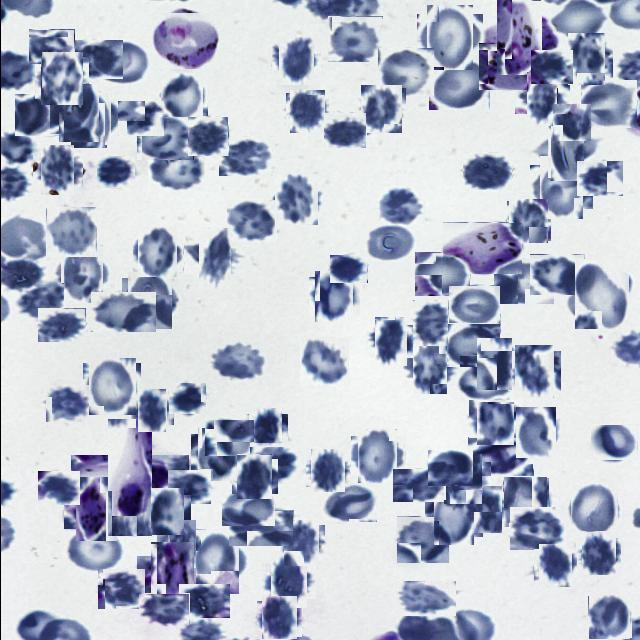difficult: (442, 222, 522, 274), (486, 4, 550, 67), (154, 10, 216, 72), (142, 549, 200, 606), (69, 482, 122, 535)
red blood cell: (570, 264, 632, 326), (421, 9, 477, 65), (428, 61, 489, 110), (190, 535, 244, 589), (534, 160, 587, 214), (493, 258, 554, 304), (568, 484, 620, 536), (85, 360, 137, 412), (377, 48, 433, 96), (580, 80, 636, 128), (65, 528, 125, 572), (147, 146, 204, 192), (124, 275, 175, 326), (46, 206, 96, 258), (90, 292, 155, 332), (467, 437, 533, 476), (327, 16, 382, 62), (136, 116, 193, 160), (56, 250, 106, 300), (396, 516, 449, 563), (459, 356, 513, 402), (414, 252, 470, 296), (428, 492, 478, 541), (445, 323, 500, 367), (509, 507, 565, 550), (66, 95, 115, 144), (540, 126, 590, 174), (54, 88, 102, 138), (96, 40, 150, 84), (300, 338, 348, 387), (228, 510, 293, 546), (272, 176, 320, 224), (190, 234, 238, 282), (37, 54, 85, 102), (205, 342, 265, 380), (354, 432, 401, 480), (193, 430, 240, 478), (529, 254, 584, 295), (360, 223, 416, 263), (510, 348, 557, 395), (156, 72, 204, 118), (226, 199, 277, 242), (218, 137, 274, 176), (14, 94, 65, 136), (394, 581, 455, 616), (358, 86, 404, 132), (472, 396, 518, 442), (512, 409, 558, 455), (322, 483, 376, 522), (70, 40, 122, 79), (311, 274, 356, 319), (266, 558, 310, 604), (134, 230, 180, 274), (502, 478, 548, 522), (564, 36, 608, 82), (439, 457, 484, 501), (448, 285, 500, 323), (96, 568, 144, 609), (407, 345, 451, 389), (472, 342, 516, 386), (221, 490, 274, 526), (392, 468, 448, 502), (462, 152, 512, 190), (249, 443, 296, 483), (204, 419, 254, 456), (520, 77, 563, 120), (378, 186, 424, 225), (280, 522, 322, 564), (274, 40, 316, 82), (507, 200, 549, 242), (36, 149, 78, 191), (588, 596, 630, 638), (178, 584, 229, 618), (15, 283, 63, 319), (590, 424, 637, 460), (117, 100, 164, 136), (576, 160, 623, 196), (138, 593, 189, 626), (464, 489, 505, 530), (370, 321, 411, 362), (146, 491, 187, 532), (258, 598, 298, 640), (45, 384, 89, 422), (110, 501, 156, 537), (412, 300, 448, 346), (187, 116, 228, 156), (37, 308, 85, 342), (427, 450, 472, 486), (28, 29, 74, 64), (286, 92, 326, 132), (244, 410, 284, 450), (234, 456, 274, 496), (578, 533, 617, 573), (308, 450, 347, 490), (323, 112, 366, 148), (161, 524, 200, 562), (167, 470, 210, 504), (536, 547, 574, 585), (552, 104, 590, 142), (37, 471, 79, 505), (530, 50, 572, 84), (133, 392, 170, 428), (96, 156, 134, 188), (168, 382, 205, 414), (329, 254, 367, 283)
trophozoite: (89, 437, 170, 518), (478, 43, 540, 90)
